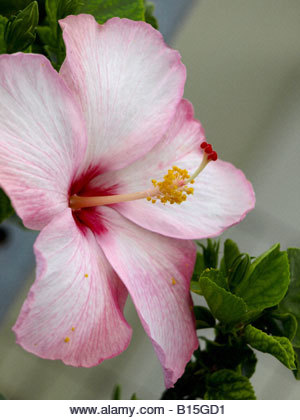Hibiscus: (1, 16, 258, 384)
